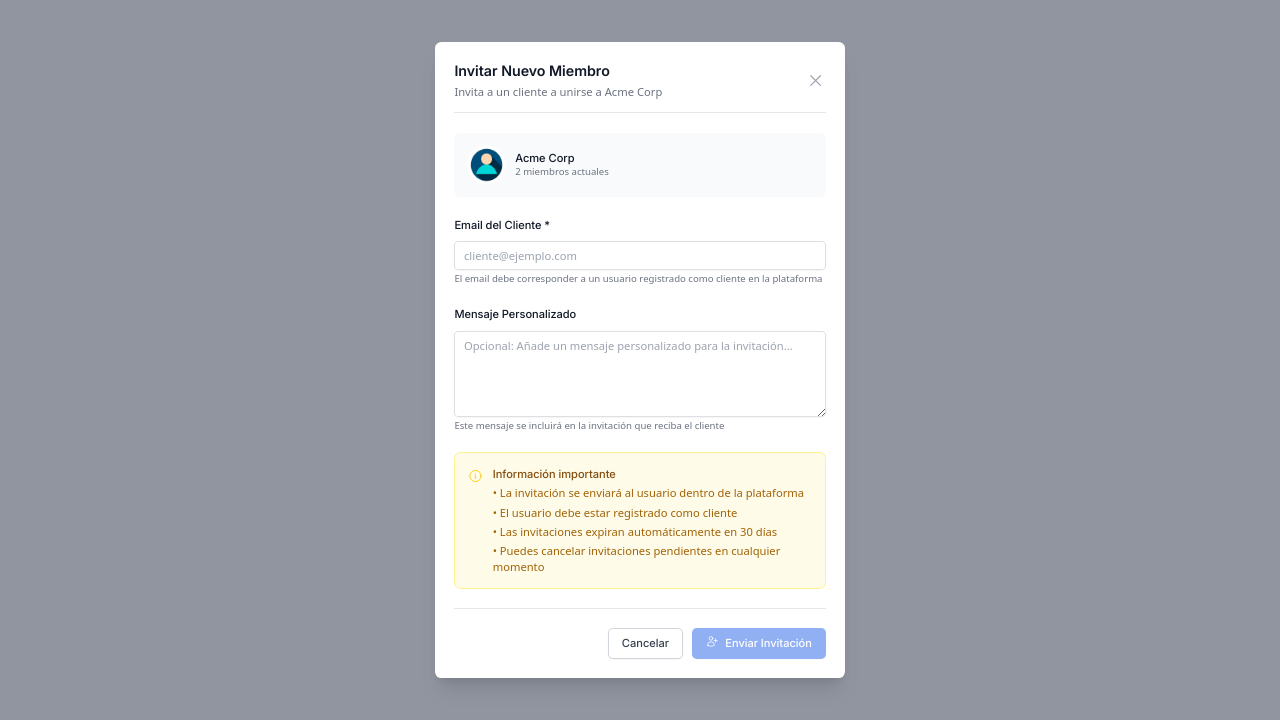
Test case: InviteMemberModal.vue › status 400 with invited_user_email sets field error
This screenshot has width=1280, height=720.
Type "client@example.com" into the field with id "email" at (640, 256), box top-left (454, 241), bottom-right (826, 270)
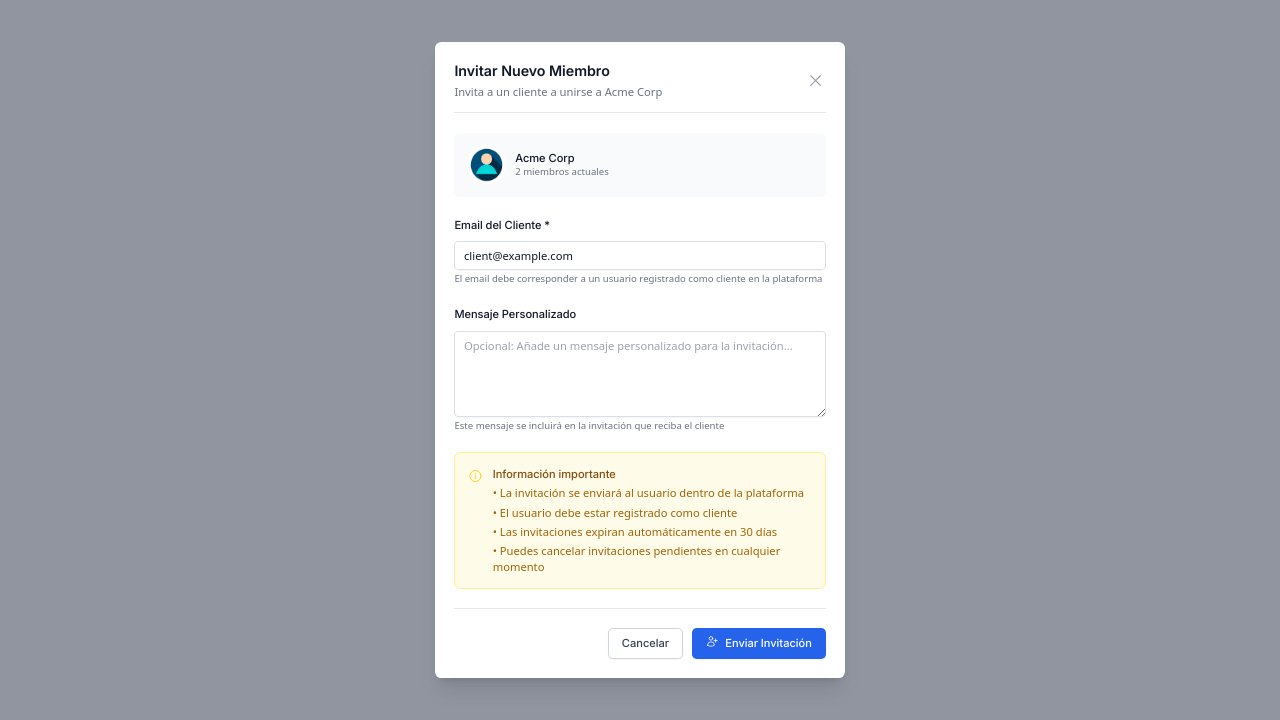
Submit the form, box top-left (454, 132), bottom-right (826, 659)
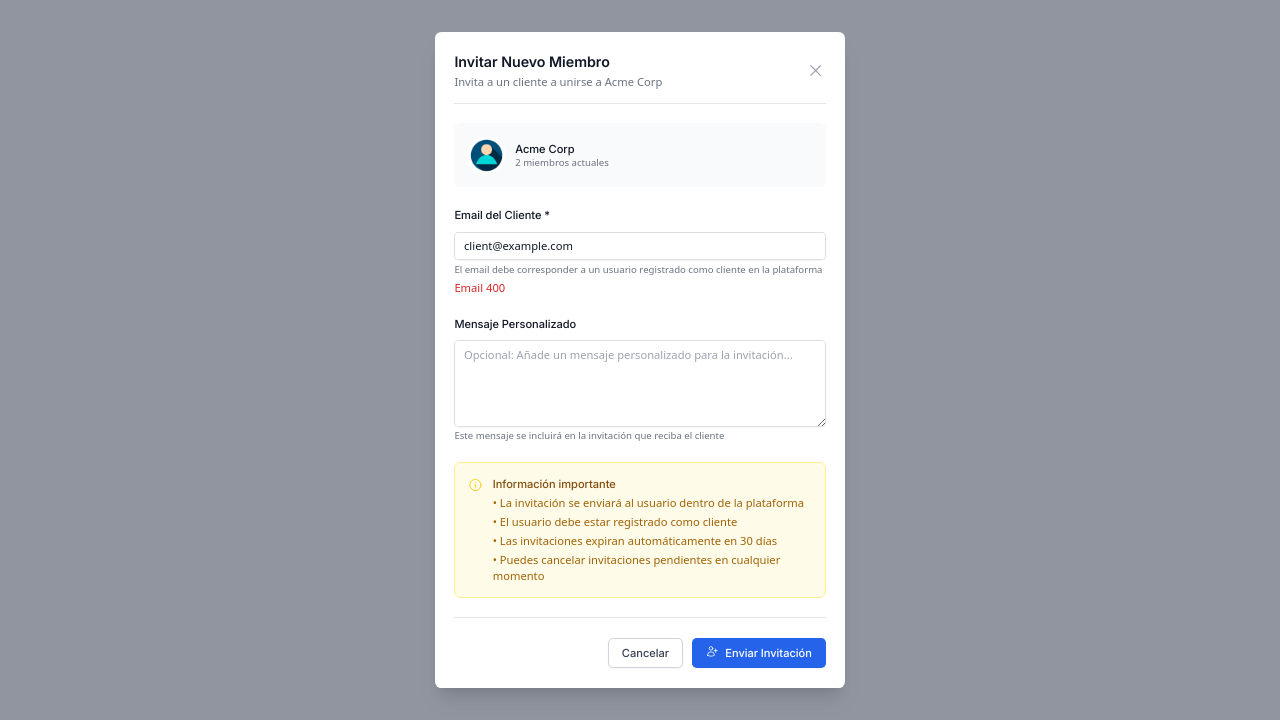
Expected: the text "Email 400" is shown, top-left (454, 280), bottom-right (505, 295)
